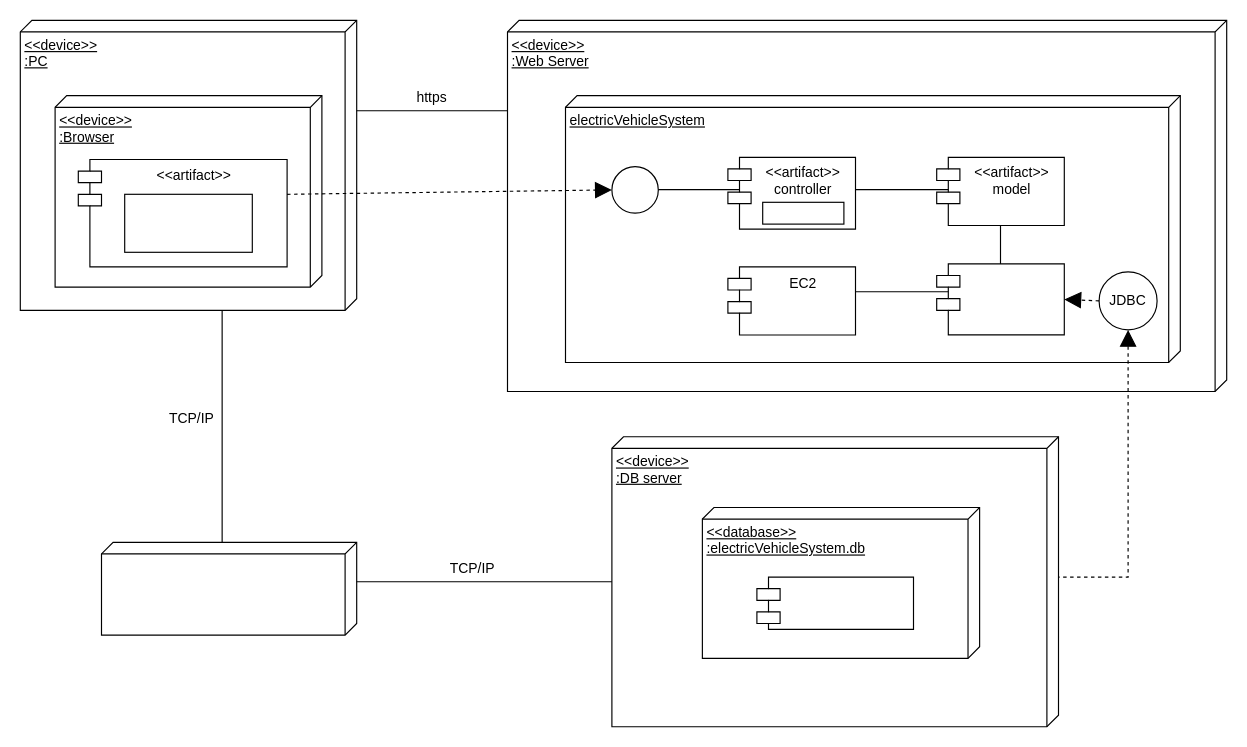
The diagram is 1247 pixels wide and 747 high, and some of its shapes have lost their labels. Here are the shapes that lost their labels. From the top down, the centre of each, then its label:
At (x=634, y=189): "HTTP".
At (x=188, y=222): "JSP/JS/CSS".
At (x=803, y=212): "Servlet".
At (x=1000, y=299): "<<artifact>> DAO".
At (x=228, y=588): "<<Internet Server Provider>>".
At (x=834, y=602): "<<artifact>> RDBMS".
